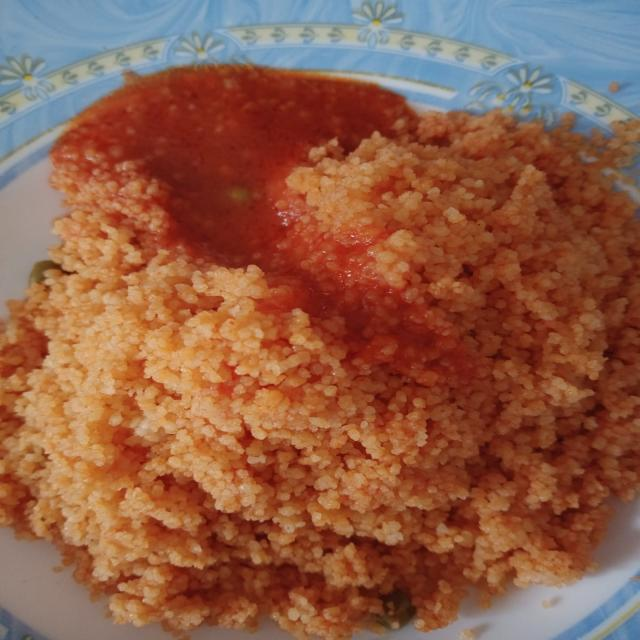Couscous: (19, 48, 630, 632)
